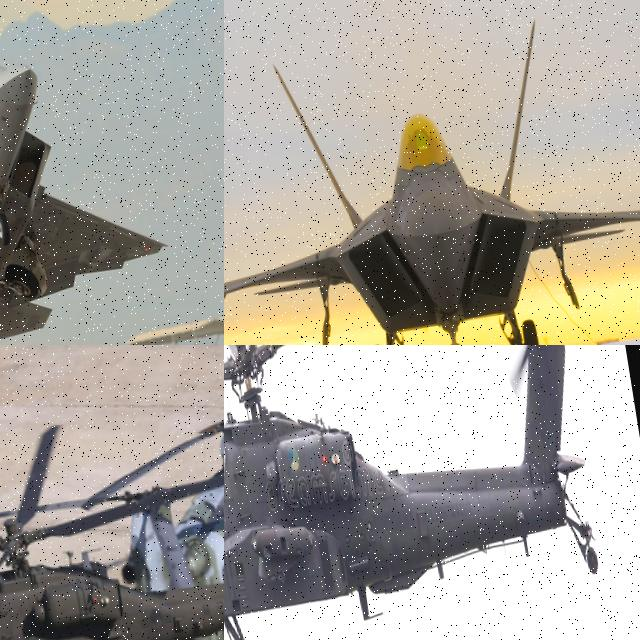Apache: (224, 345, 628, 640), (0, 407, 224, 640)
F22: (224, 0, 640, 345), (0, 37, 179, 345)
